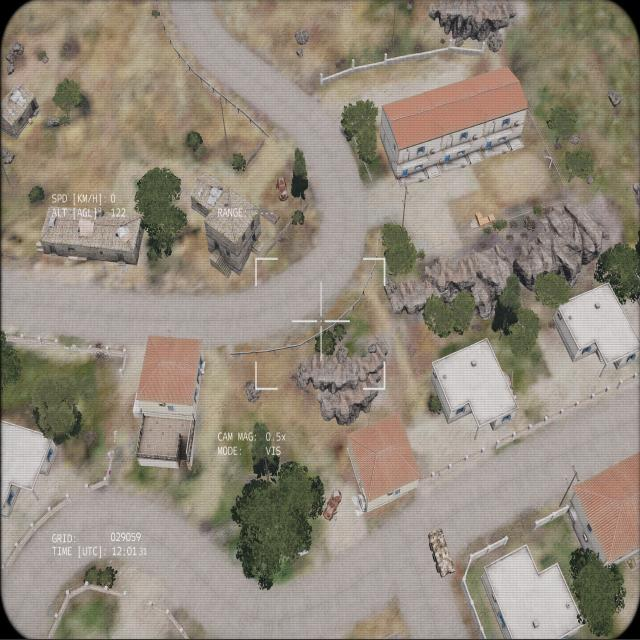apc: (426, 526, 455, 579)
